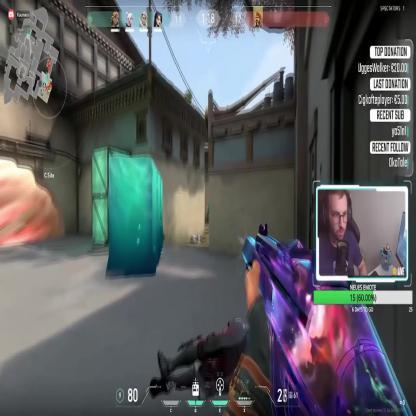enemy: (206, 204, 211, 224)
enemy_head: (207, 203, 209, 207)
